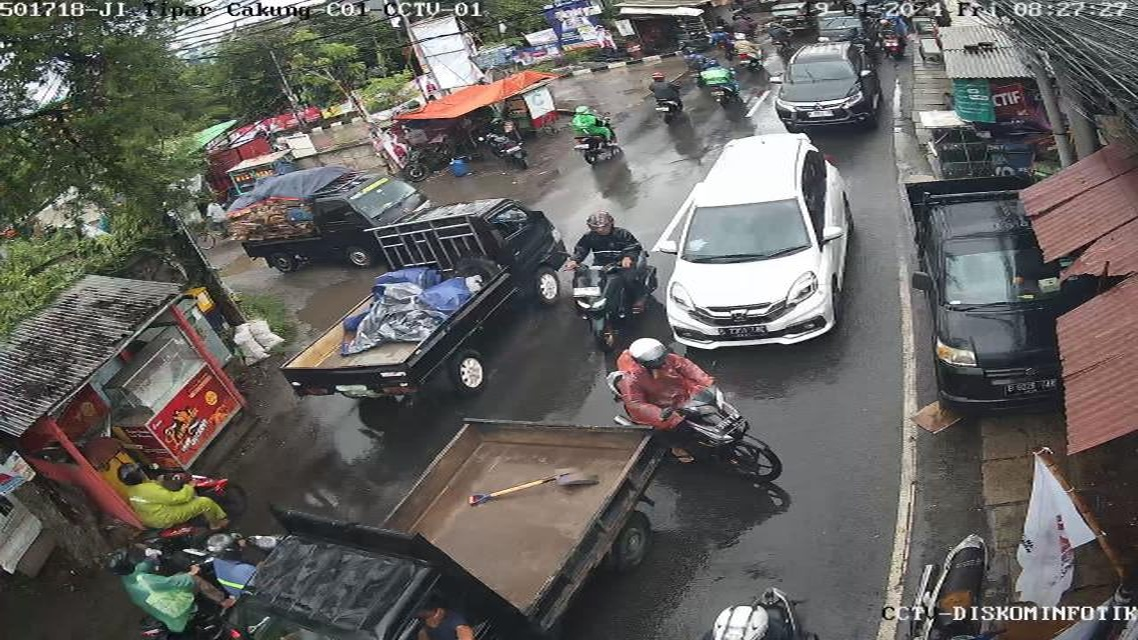Gerobak: (0, 263, 254, 544), (71, 350, 244, 469), (494, 74, 567, 148), (217, 148, 299, 187)
